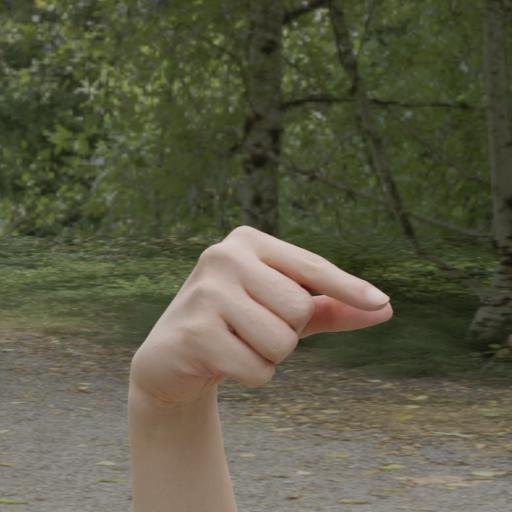G: (122, 219, 398, 407)
